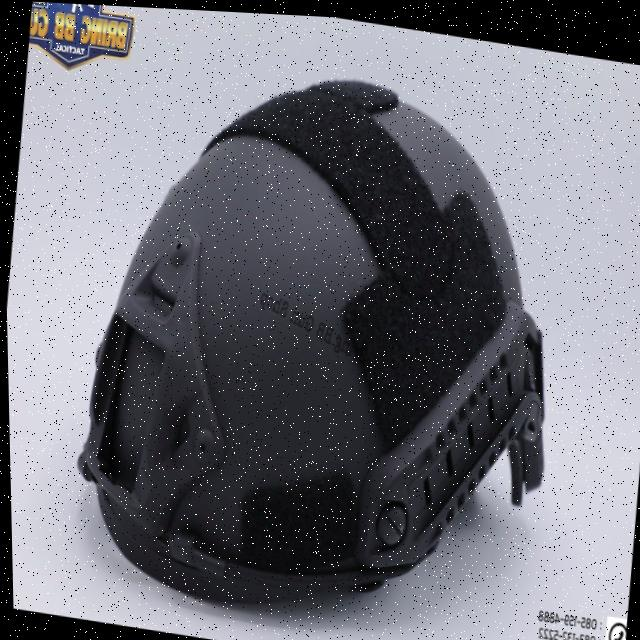illegal_helmet: (47, 26, 590, 640)
